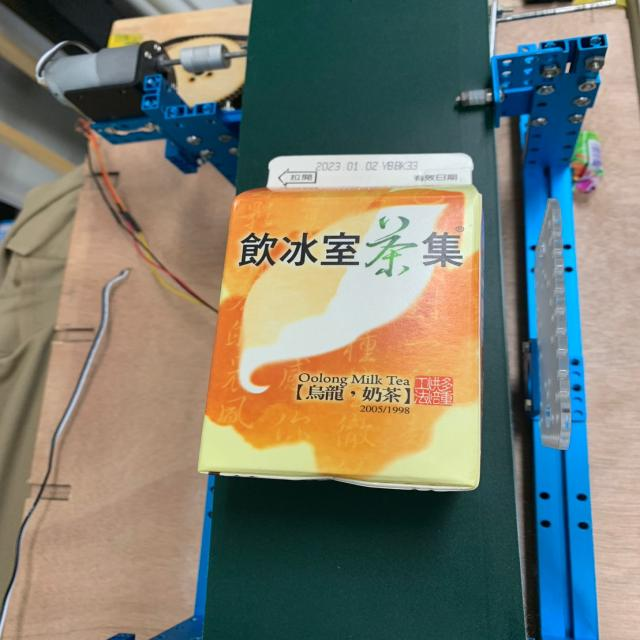non_white_jug: (191, 144, 495, 492)
